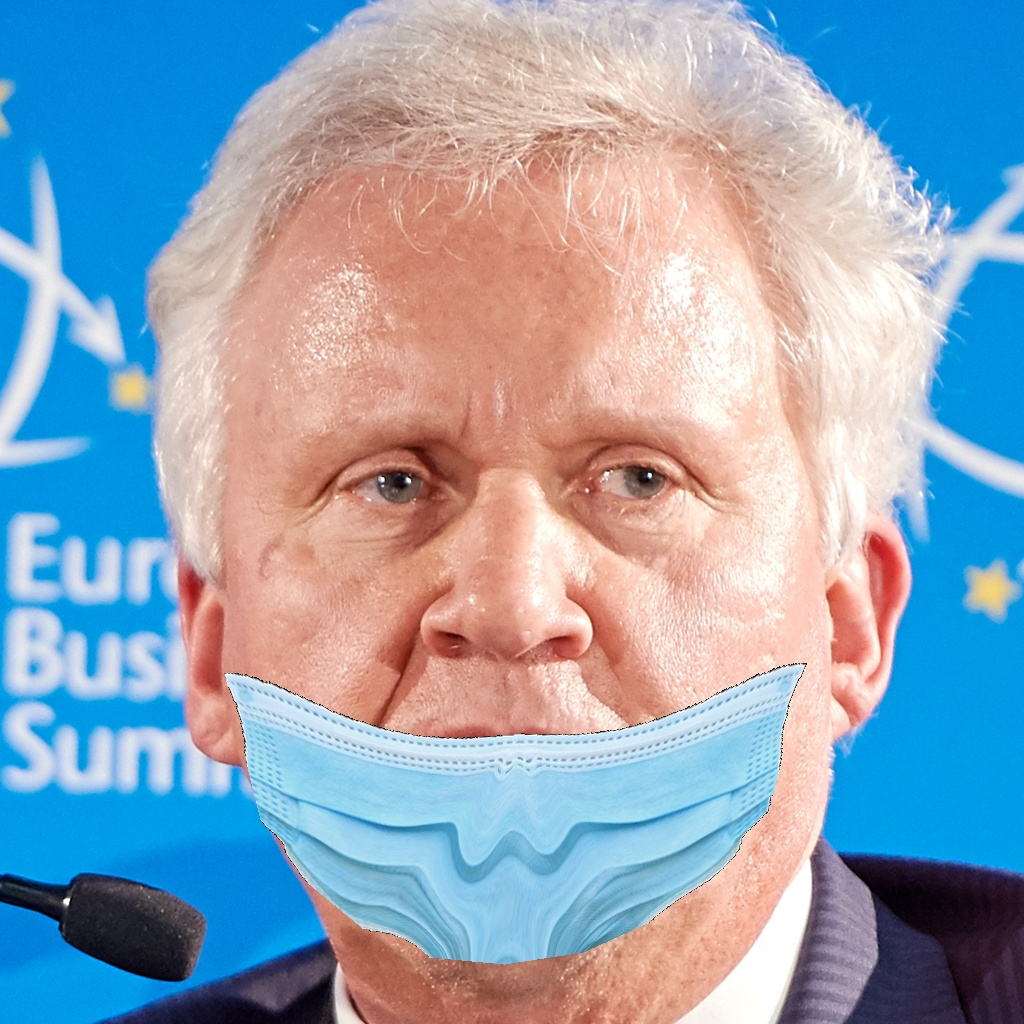mascarilla_mal_puesta: (149, 350, 887, 958)
